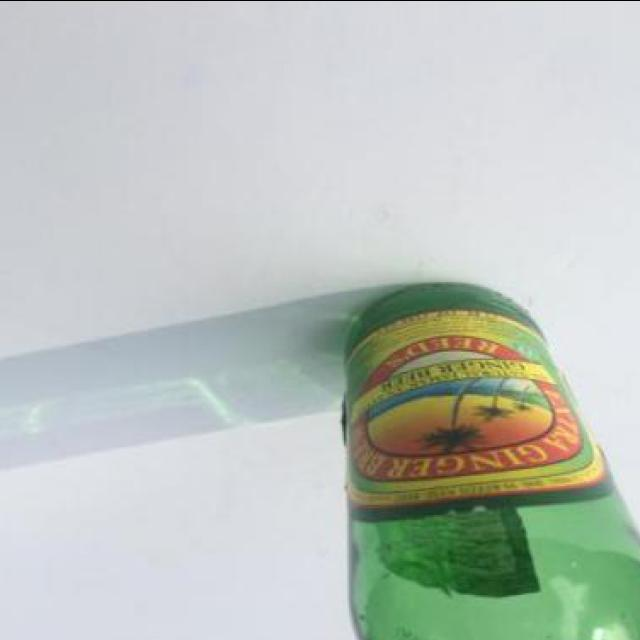kaca: (340, 283, 639, 640)
